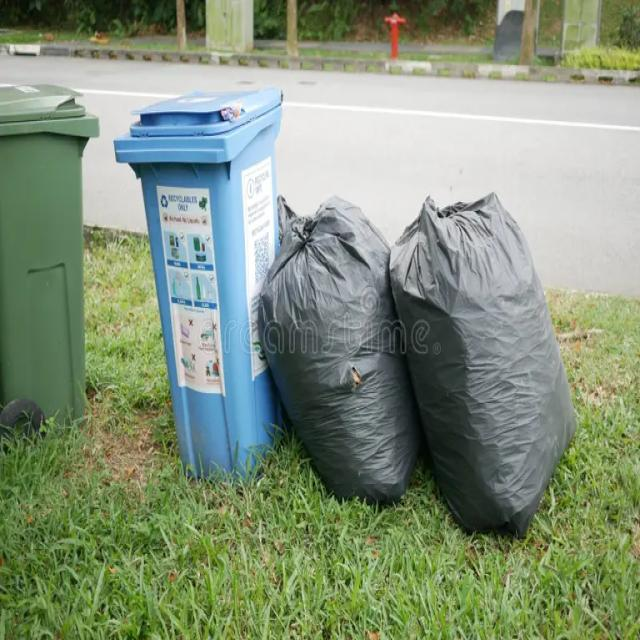bin_empty: (120, 96, 288, 494), (0, 85, 83, 412)
normal_waste: (396, 208, 572, 539), (262, 200, 416, 508)
